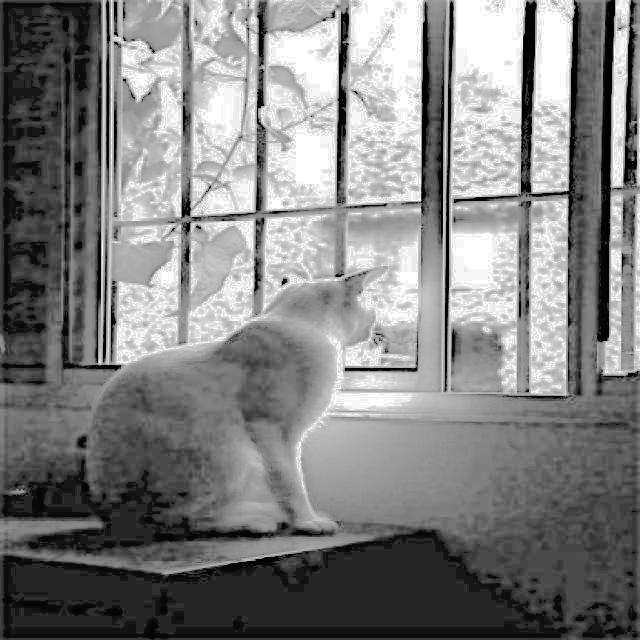Cat: (16, 264, 393, 552)
